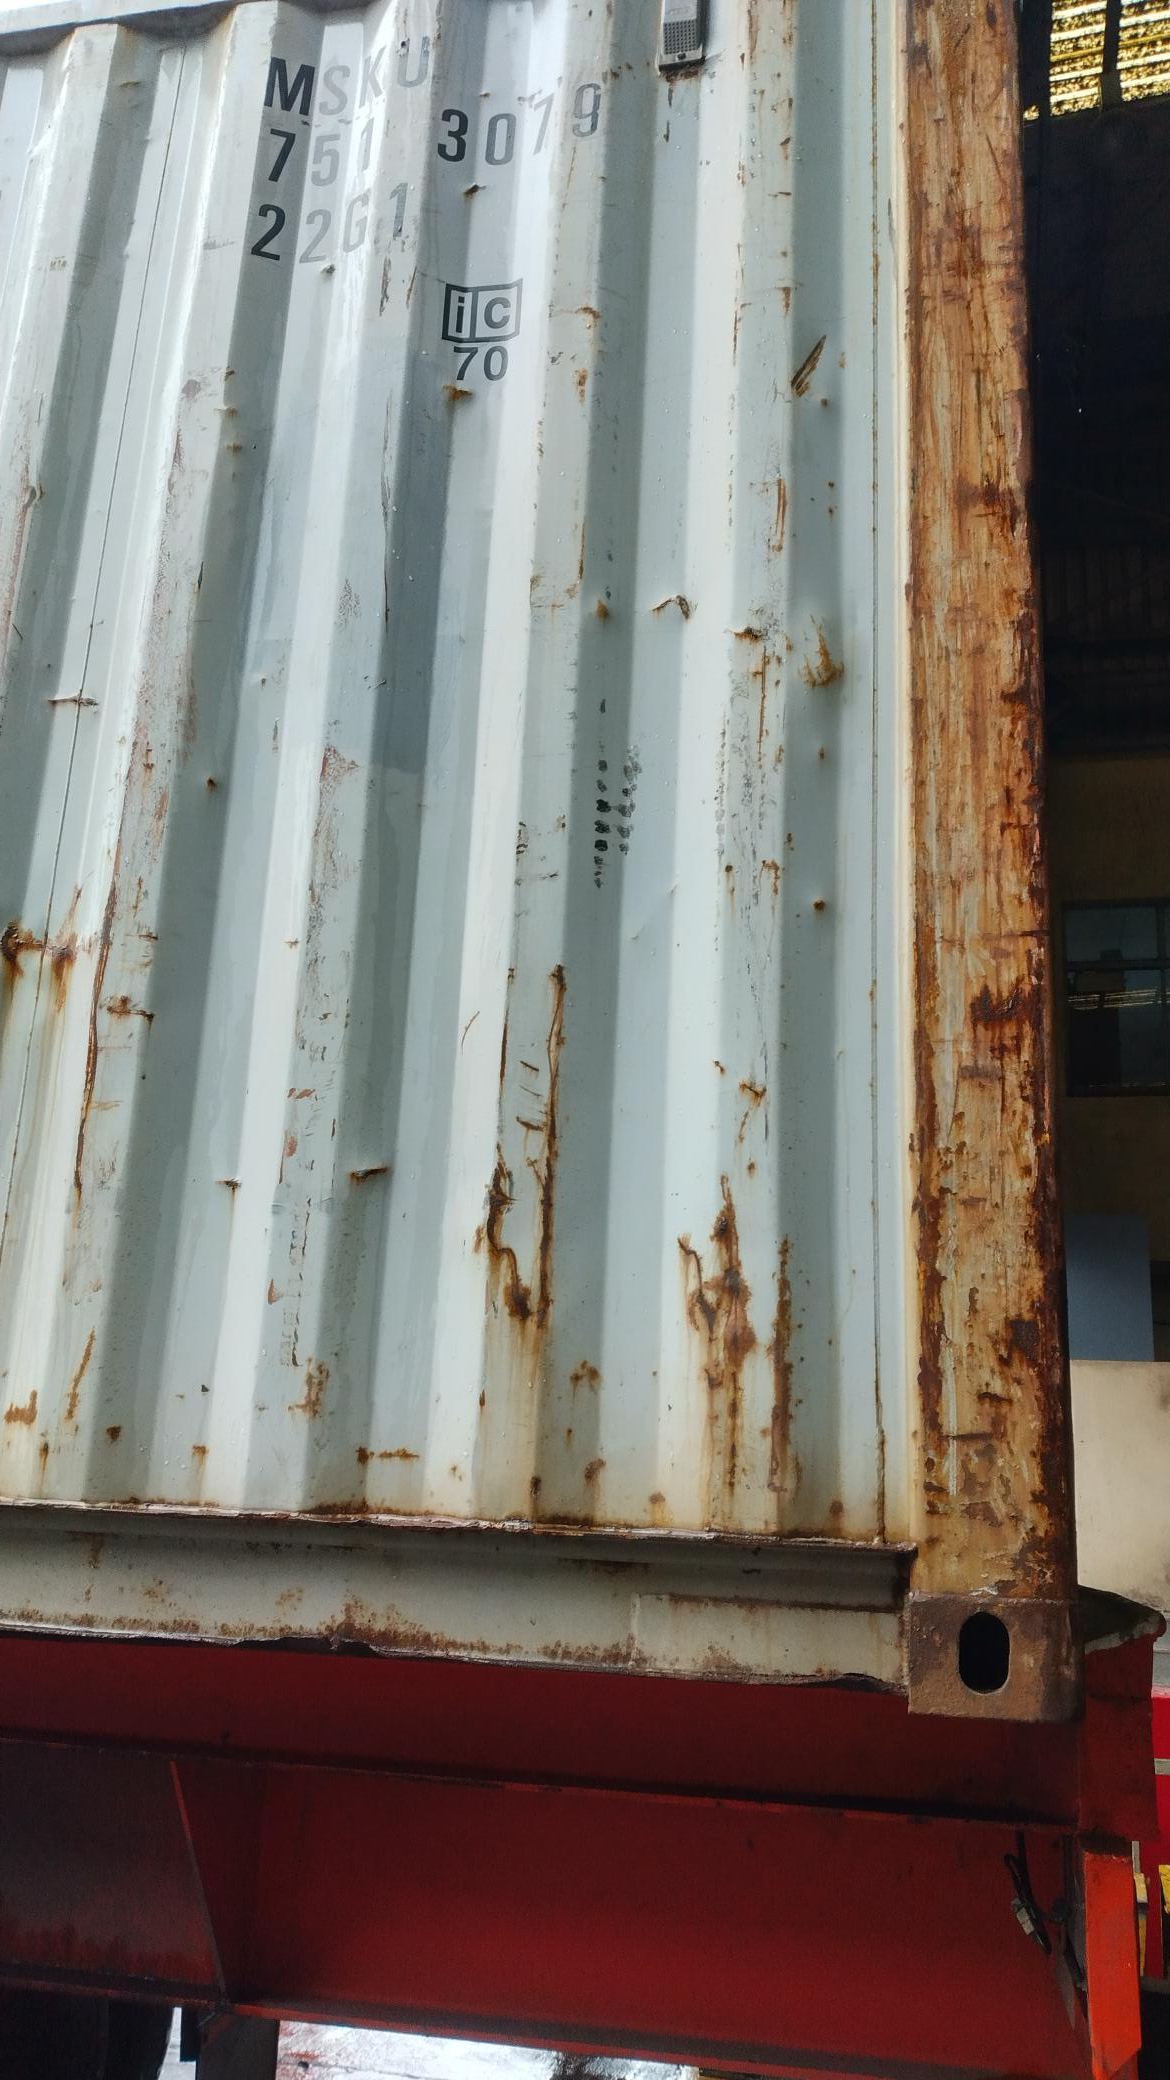rust: (914, 314, 1063, 1504), (619, 1161, 909, 1493), (474, 926, 606, 1344), (1, 894, 174, 1024)
